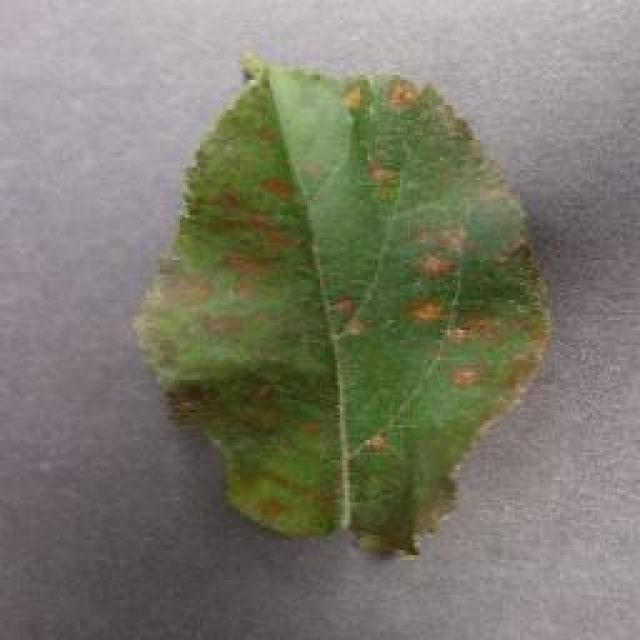apple cedar apple rust: (130, 50, 552, 558)
